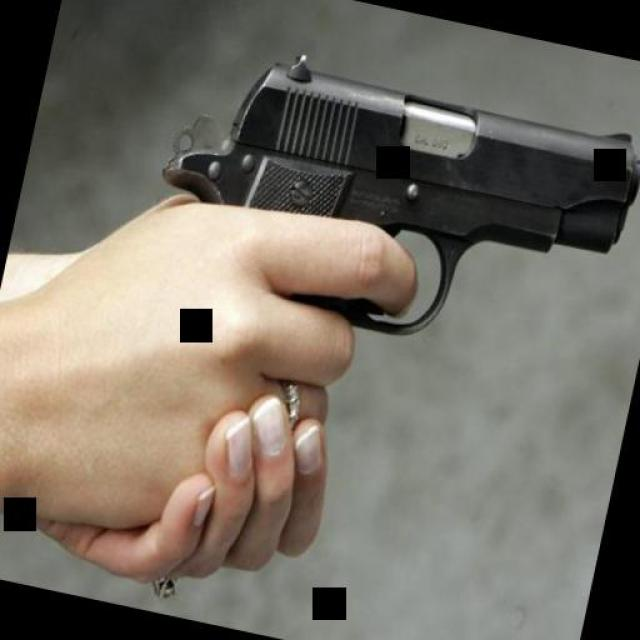gun: (139, 24, 640, 381)
